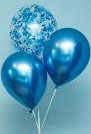Balloon: (43, 28, 91, 85), (1, 52, 47, 108), (9, 3, 56, 56)
